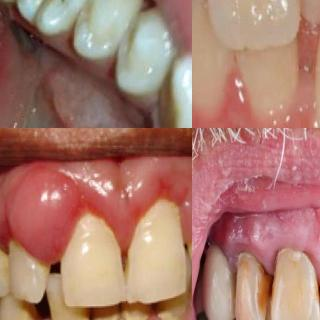Gum Swelling: (0, 172, 127, 250), (122, 161, 192, 222), (226, 229, 291, 276), (287, 234, 320, 285)
calculus: (160, 200, 188, 236), (0, 240, 12, 291), (159, 300, 189, 320), (0, 303, 34, 320), (51, 306, 89, 320), (117, 308, 151, 320), (88, 306, 115, 320)
plaque: (276, 237, 316, 269), (232, 242, 250, 264)
